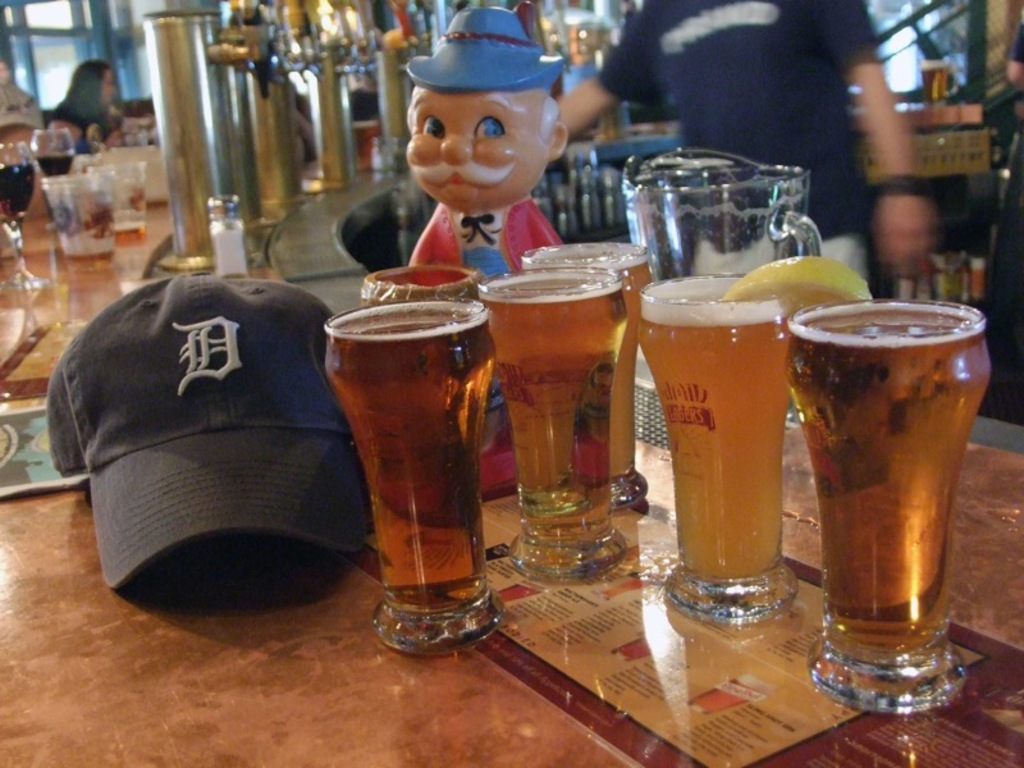Beer: (784, 299, 992, 655), (325, 305, 488, 611), (478, 267, 631, 541), (637, 305, 785, 581), (529, 258, 654, 471)
